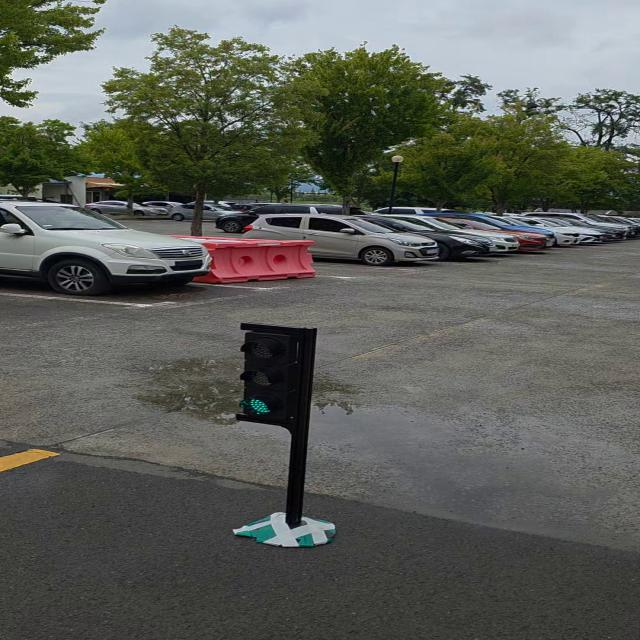green: (240, 326, 314, 428)
